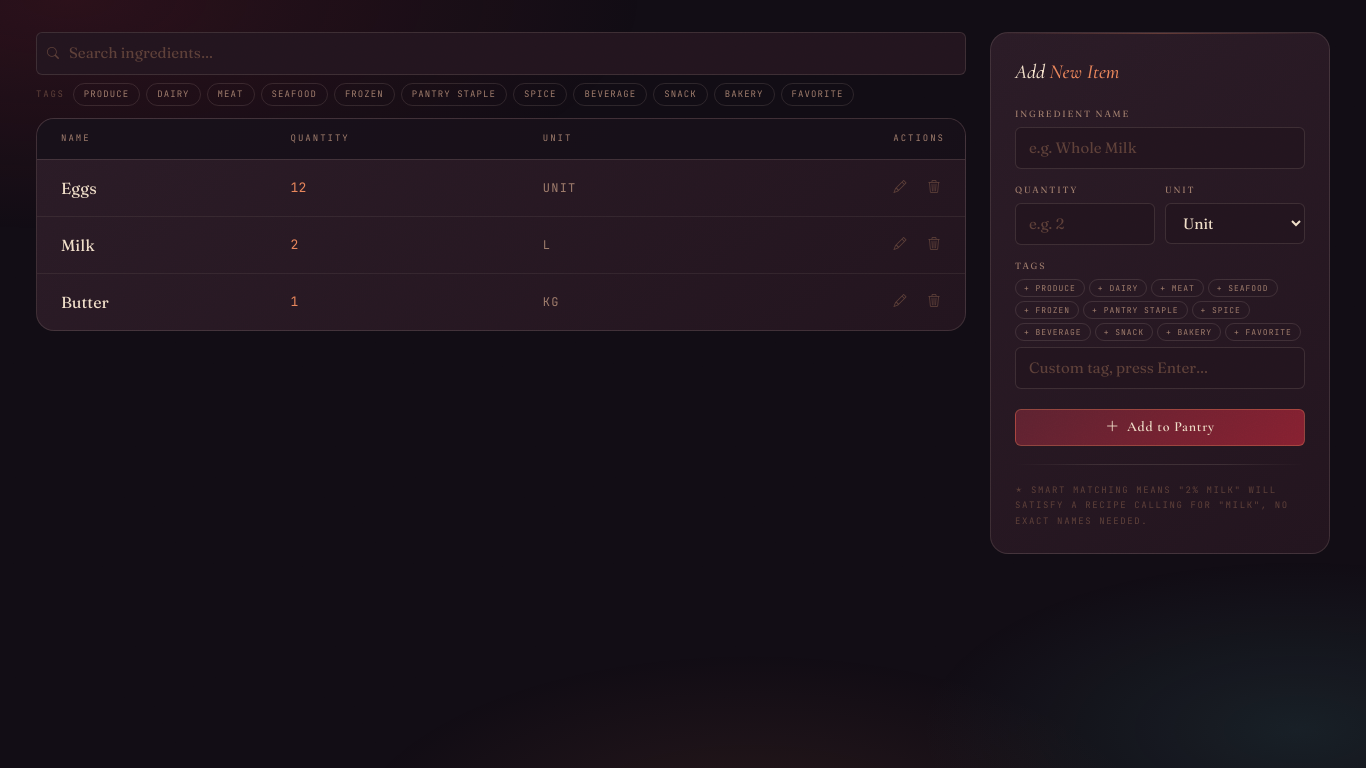
edit item › only one row is in edit mode at a time
The width and height of the screenshot is (1366, 768).
Note: Start editing first item, then click edit on second
Click the button titled "Edit" in the row of "Eggs". click: (900, 188)
box: [885,172,915,202]
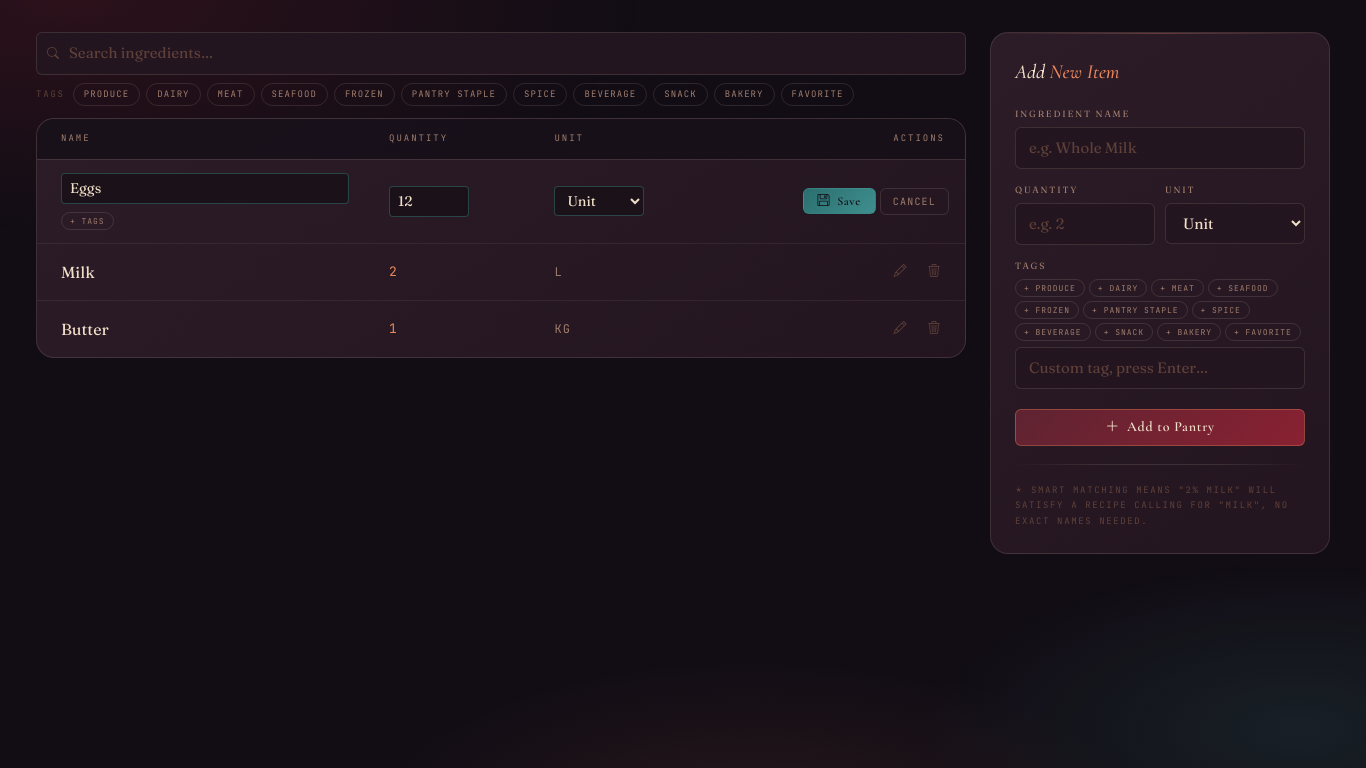
Click the 1st button titled "Edit". click: (900, 272)
box: [885,256,915,286]
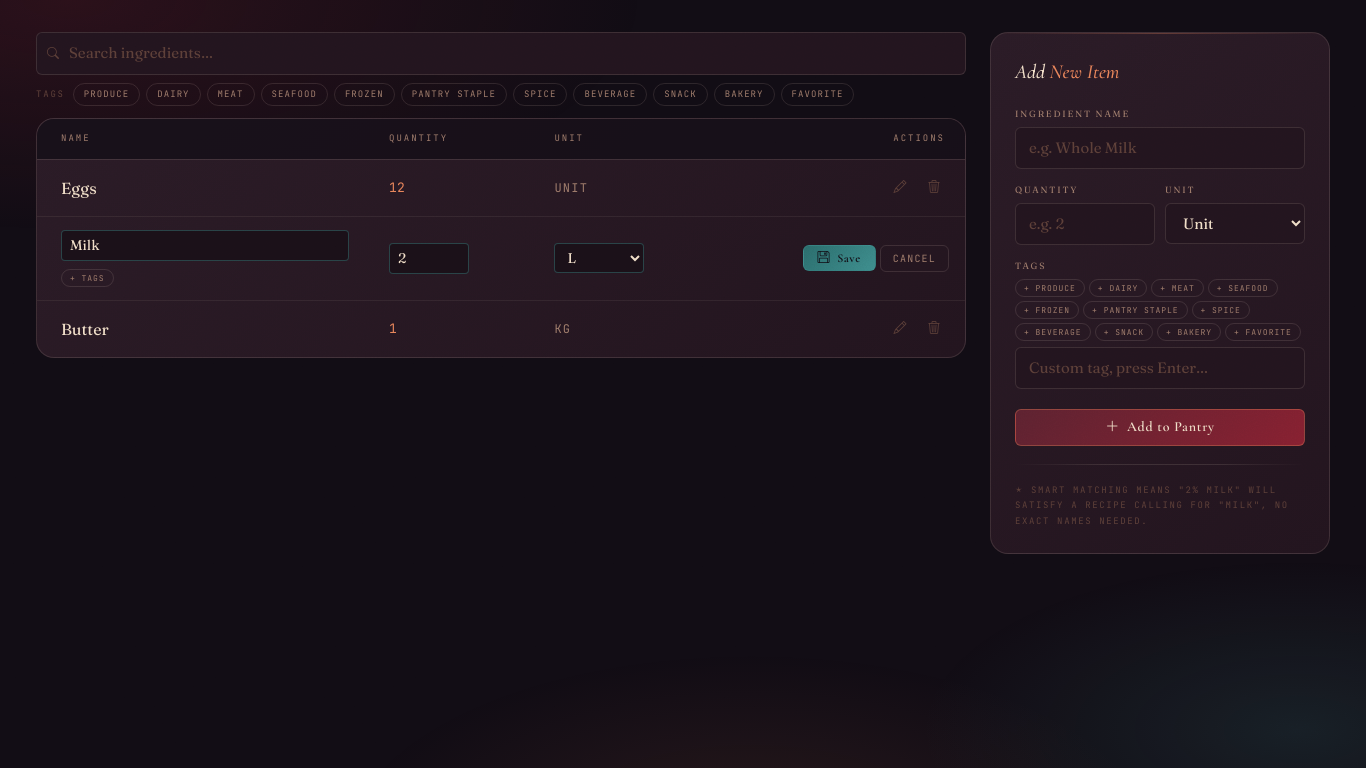
Expected: the field showing "Milk" is shown, [61,230,349,260]
